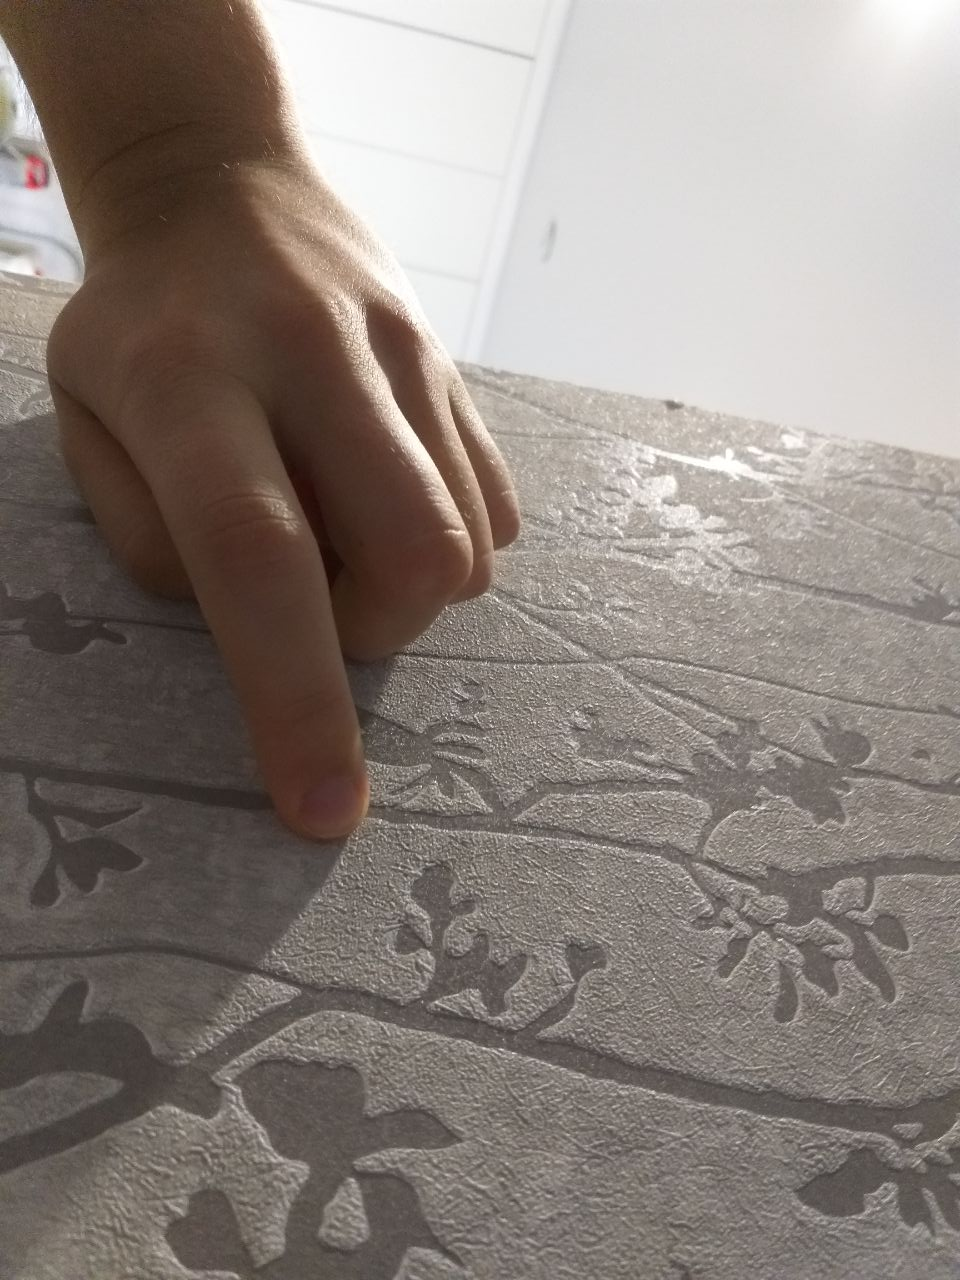finger: (265, 765, 373, 841)
